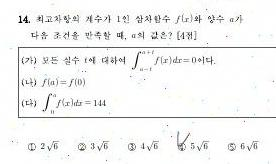choice: (174, 134, 188, 152)
not-choice: (76, 142, 87, 153), (226, 142, 237, 153), (26, 142, 37, 152), (127, 142, 137, 152)
